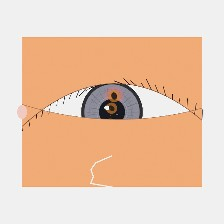foreign_body_visible: (90, 109, 130, 141)
